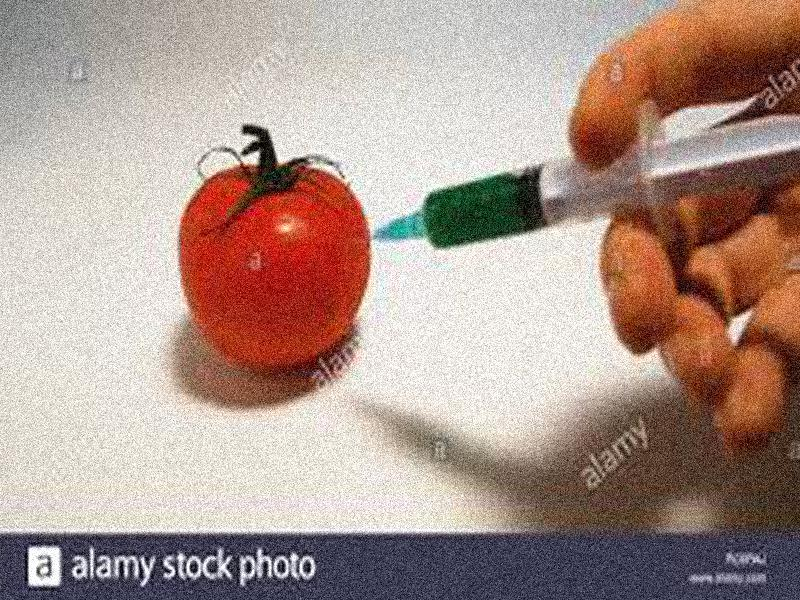Tomato: (181, 165, 370, 367)
